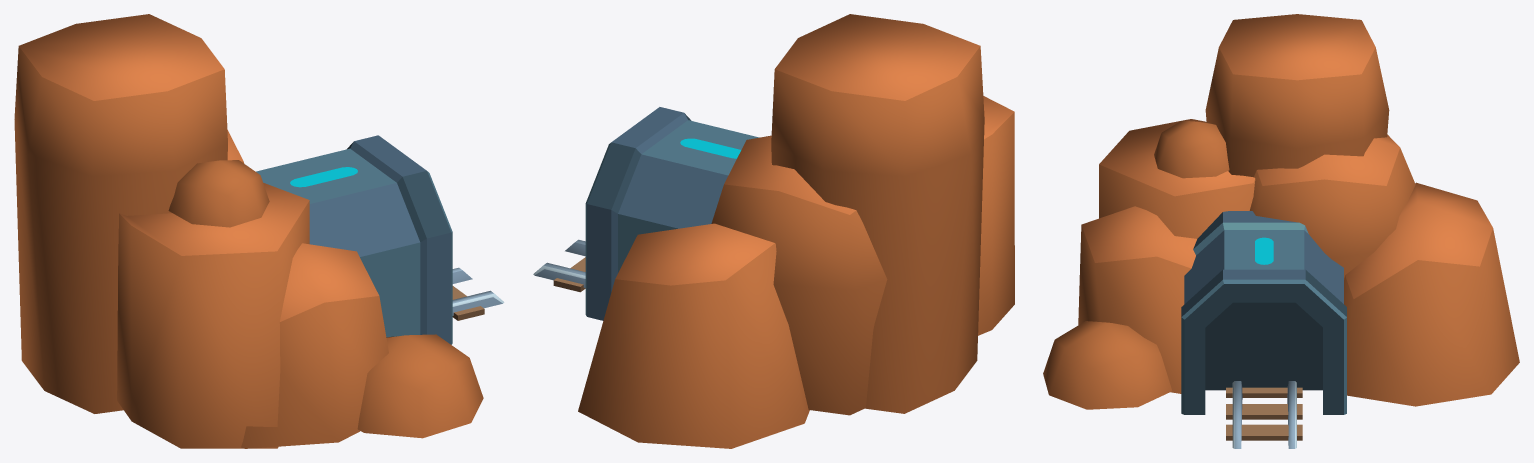
Rendered from Buildings_6.fbx.
3 renders of one model, left to right at view 1: azimuth 30°, elevation 25°; view 2: azimuth 150°, elevation 25°; view 3: azimuth 270°, elevation 25°, orthographic. The views are drawn at different scales.
Parts seen in each view (by area): view 1: Buildings.005; view 2: Buildings.005; view 3: Buildings.005.
Boxes of the visible parts, <box> form: Buildings.005: <box>14,14,504,448</box>; Buildings.005: <box>533,14,1014,448</box>; Buildings.005: <box>1043,14,1519,448</box>.
Bounding box in the file's own units: 553 × 609 × 380.
